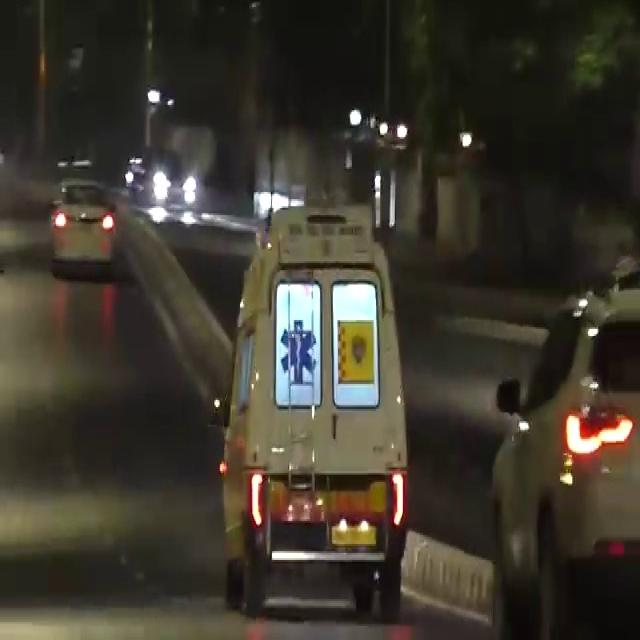ambulance: (221, 198, 436, 562)
